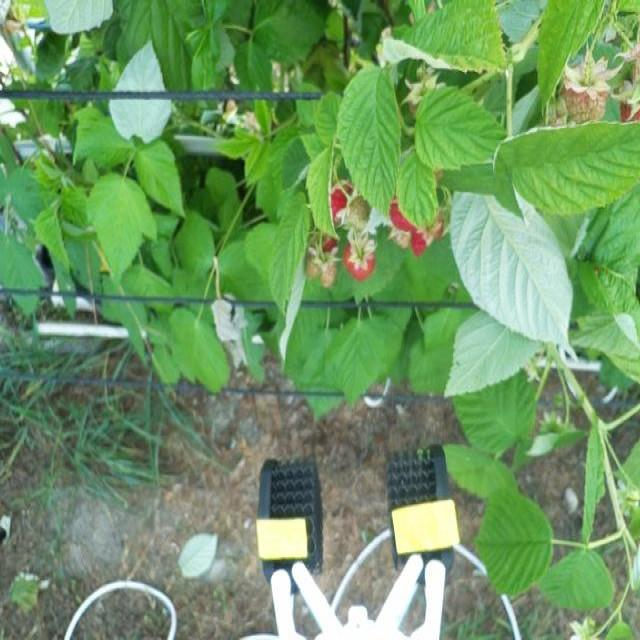Riped berries: (345, 234, 380, 282), (324, 174, 358, 221), (387, 190, 415, 232), (411, 216, 438, 254), (618, 84, 640, 124)
